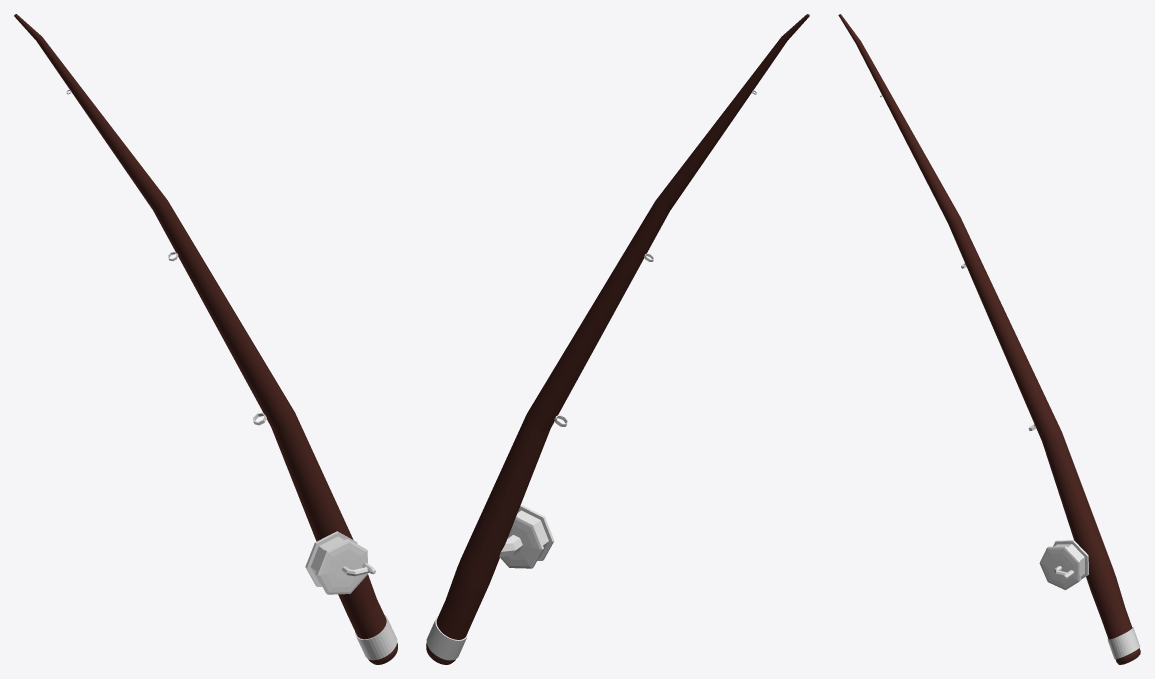
Rendered from WoodenRod.fbx.
The picture shows the model from 3 angles, left to right: view 1: azimuth 30°, elevation 25°; view 2: azimuth 150°, elevation 25°; view 3: azimuth 330°, elevation 25°; orthographic projection. The views are drawn at different scales.
Visible parts, largest first — view 1: Cylinder, Cylinder.005; view 2: Cylinder, Cylinder.006; view 3: Cylinder, Cylinder.005.
Boxes of the visible parts, x1,y1,x2,y2 form: Cylinder: (14, 14, 397, 664); Cylinder.005: (315, 539, 368, 594); Cylinder: (426, 14, 809, 664); Cylinder.006: (500, 515, 543, 568); Cylinder: (838, 14, 1140, 664); Cylinder.005: (1039, 546, 1080, 590).
Bounding box in the file's own units: 92.34 × 170 × 19.42.
